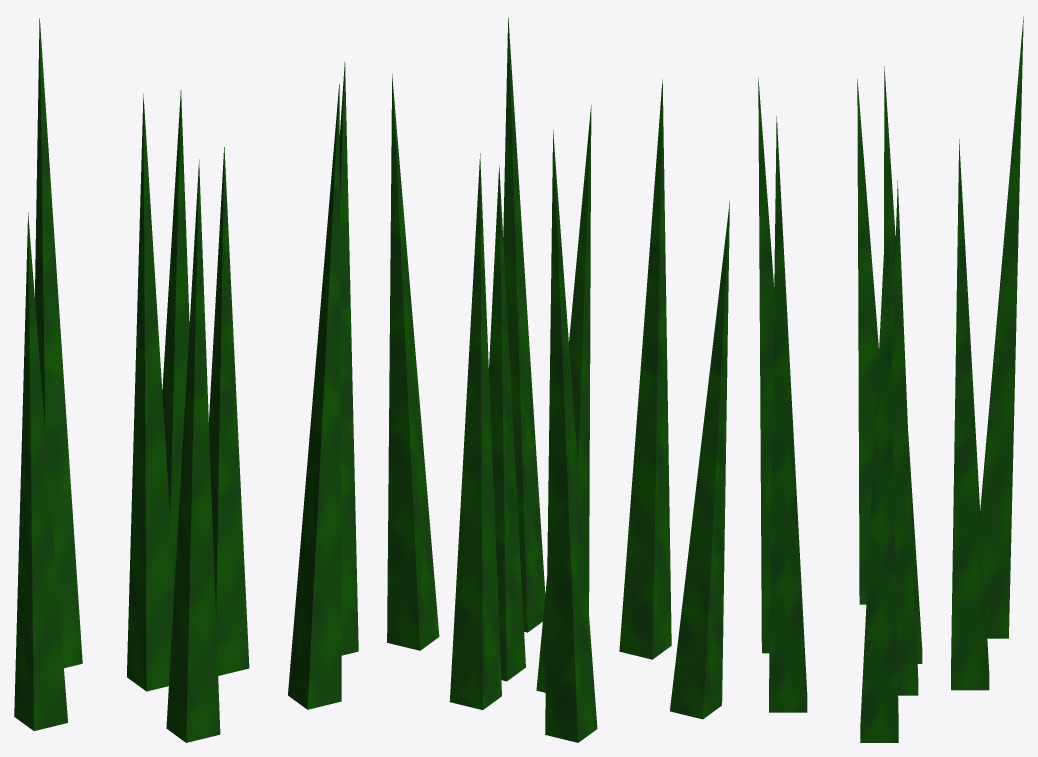
File: pointygrass2.fbx
The picture shows the model from 3 angles, left to right: view 1: azimuth 30°, elevation 25°; view 2: azimuth 150°, elevation 25°; view 3: azimuth 270°, elevation 25°; orthographic projection. The views are drawn at different scales.
Parts seen in each view (by area): view 1: Cube; view 2: Cube; view 3: Cube.
Part boxes in pixels (box(x1,y1,x2,y2)): Cube: box(14, 18, 358, 742); Cube: box(387, 18, 729, 742); Cube: box(758, 16, 1023, 742).
Size of the model in its own units: 1946 by 3543 by 1381.
Materials: 1 (1 with a texture image).
